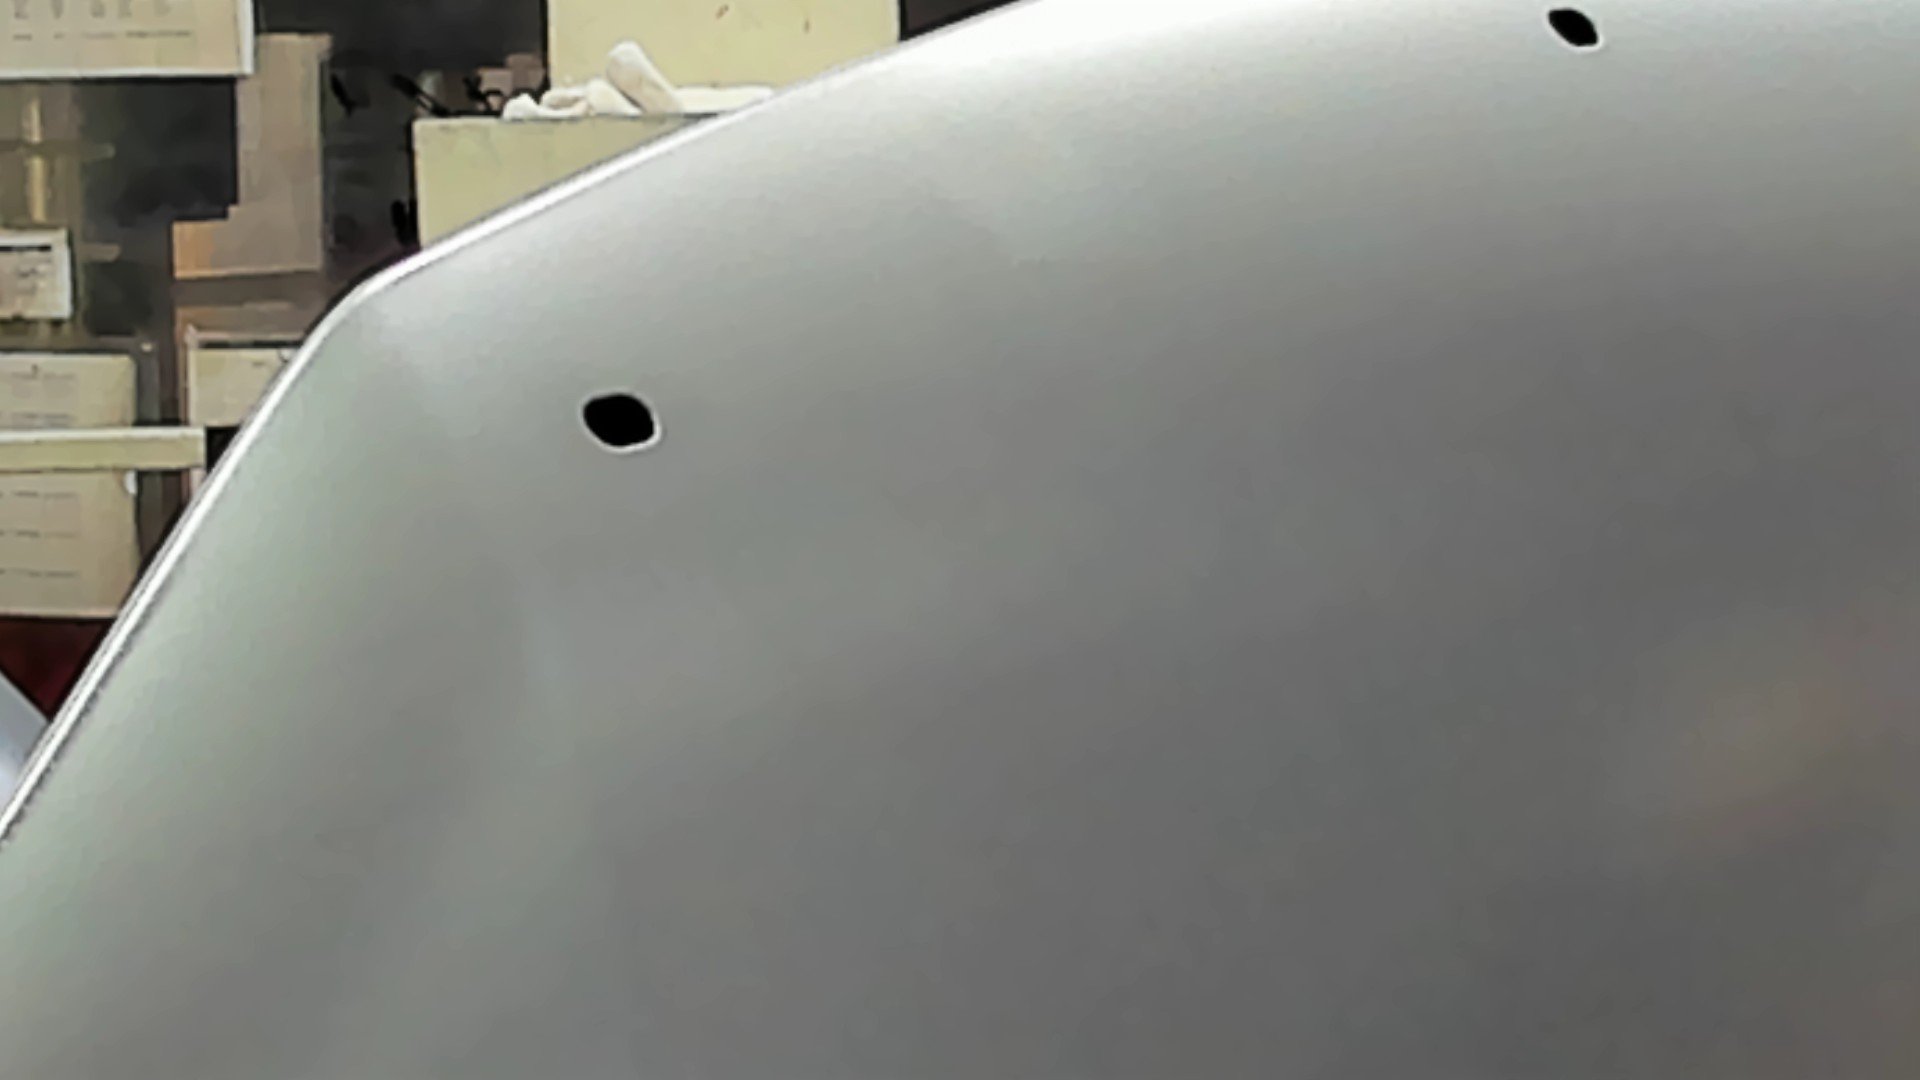amorfo: (579, 382, 669, 455), (1538, 3, 1607, 55)
